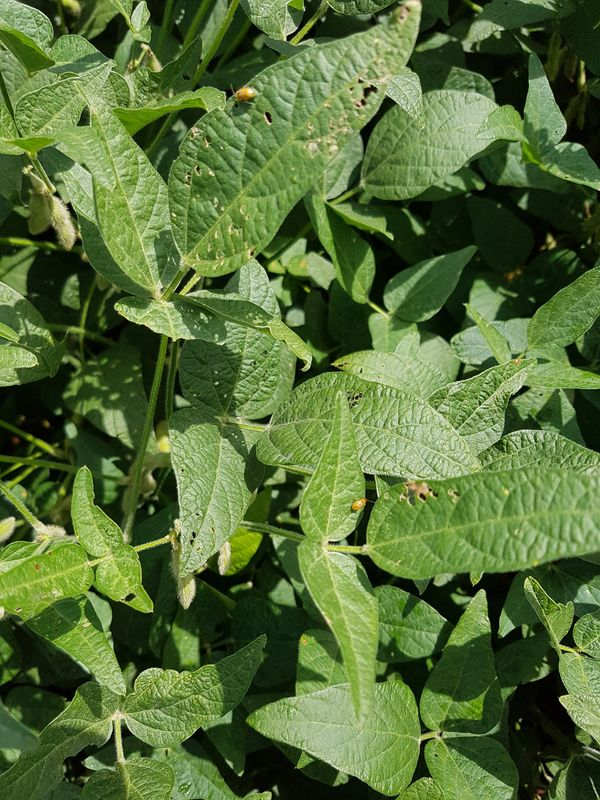Diabrotica_speciosa: (222, 80, 264, 111), (345, 493, 371, 518)
